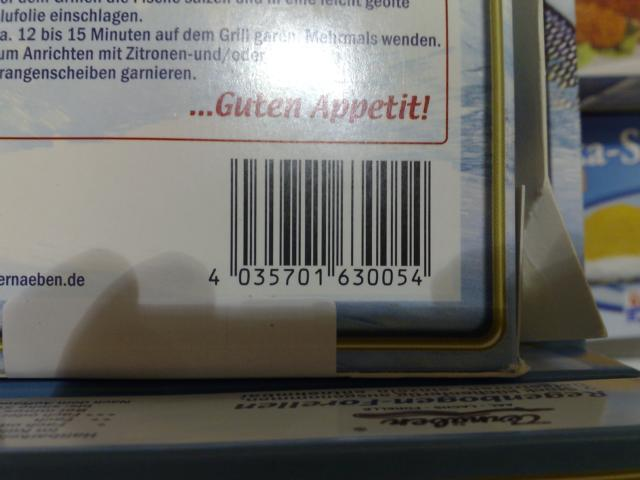Barcode: (196, 148, 452, 300)
